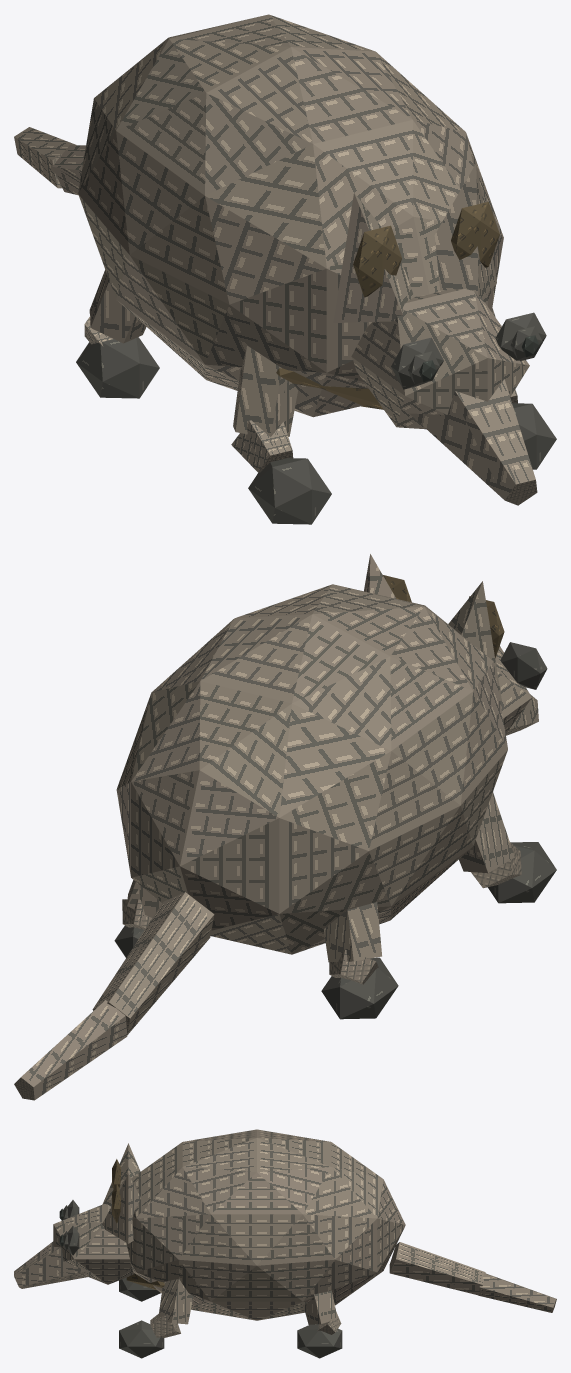
Rendered from animal-tatu-v01.gltf.
3 renders of one model, top to bottom at view 1: azimuth 30°, elevation 25°; view 2: azimuth 150°, elevation 25°; view 3: azimuth 270°, elevation 25°, orthographic. The views are drawn at different scales.
Parts seen in each view (by area): view 1: corpo, cabeca, perna-frente-esquerda, perna-tras-esquerda, cauda, perna-frente-direita; view 2: corpo, cauda, cabeca, perna-tras-esquerda, perna-frente-esquerda, perna-tras-direita; view 3: corpo, cabeca, cauda, perna-frente-direita, perna-tras-direita, perna-frente-esquerda.
Part boxes in pixels (x1=…): corpo: x1=78, y1=14, x2=503, y2=417; cabeca: x1=333, y1=163, x2=546, y2=505; perna-frente-esquerda: x1=231, y1=345, x2=331, y2=524; perna-tras-esquerda: x1=76, y1=270, x2=159, y2=398; cauda: x1=14, y1=127, x2=85, y2=195; perna-frente-direita: x1=491, y1=308, x2=556, y2=469; corpo: x1=116, y1=584, x2=507, y2=954; cauda: x1=14, y1=892, x2=214, y2=1100; cabeca: x1=364, y1=554, x2=547, y2=735; perna-tras-esquerda: x1=321, y1=902, x2=398, y2=1019; perna-frente-esquerda: x1=459, y1=792, x2=556, y2=903; perna-tras-direita: x1=114, y1=880, x2=161, y2=957; corpo: x1=126, y1=1129, x2=405, y2=1320; cabeca: x1=14, y1=1143, x2=140, y2=1288; cauda: x1=389, y1=1242, x2=556, y2=1312; perna-frente-direita: x1=119, y1=1278, x2=193, y2=1358; perna-tras-direita: x1=297, y1=1290, x2=342, y2=1358; perna-frente-esquerda: x1=119, y1=1277, x2=160, y2=1301.
Bounding box in the file's own units: 0.66 × 0.7103 × 1.86.
1 material, 1 textured.
